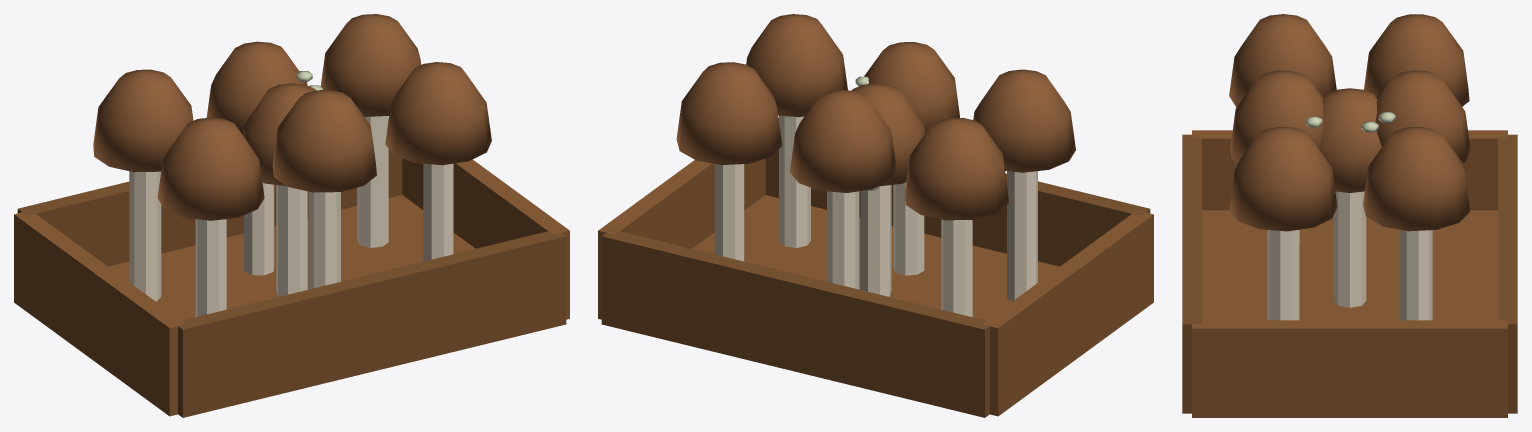
File: Mush_Matsutake.fbx
The picture shows the model from 3 angles, left to right: view 1: azimuth 30°, elevation 25°; view 2: azimuth 150°, elevation 25°; view 3: azimuth 270°, elevation 25°; orthographic projection.
Parts seen in each view (by area): view 1: Mush_Matsutake__Stack, Mush_Matsutake; view 2: Mush_Matsutake__Stack, Mush_Matsutake; view 3: Mush_Matsutake__Stack, Mush_Matsutake, Mush_Matsutake__Rotten.
Part boxes in pixels (x1,y1,x2,y2): Mush_Matsutake__Stack: (14,14,569,417); Mush_Matsutake: (242,83,315,296); Mush_Matsutake__Stack: (598,14,1153,417); Mush_Matsutake: (852,83,925,296); Mush_Matsutake__Stack: (1182,14,1517,417); Mush_Matsutake: (1319,88,1381,307); Mush_Matsutake__Rotten: (1305,112,1395,132).
Bounding box in the file's own units: 0.19 × 0.1095 × 0.136.
